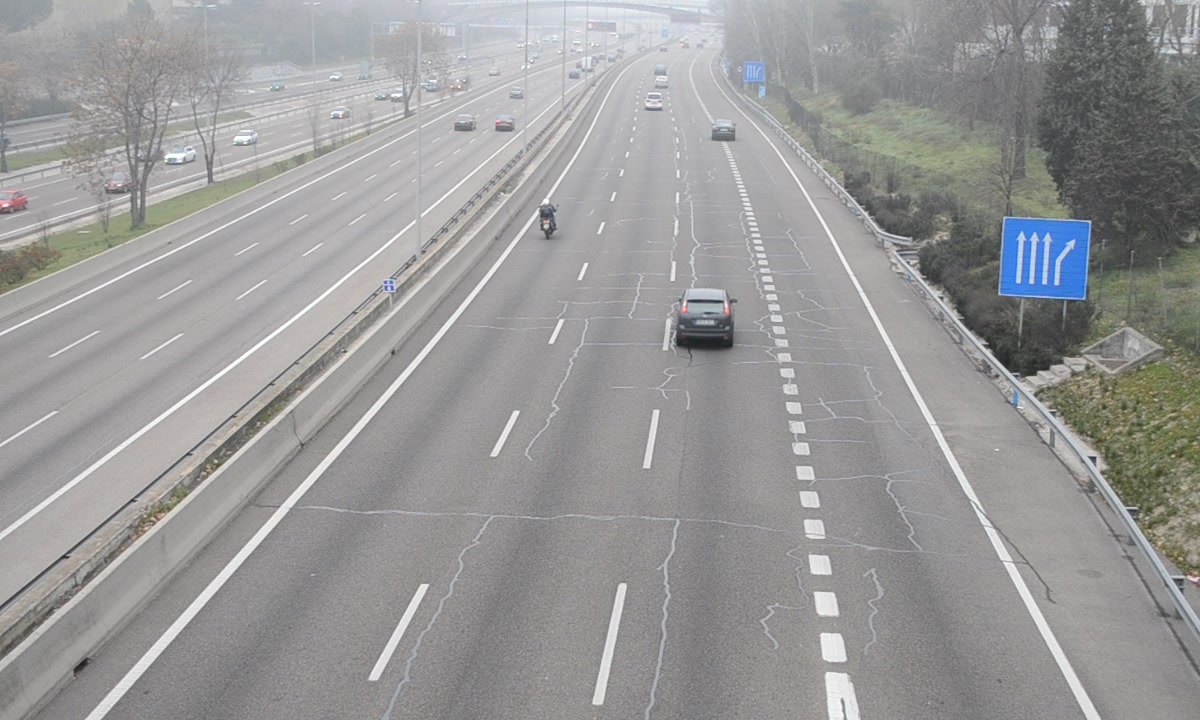car: (673, 290, 734, 348), (711, 121, 734, 142), (646, 93, 663, 112)
motorcycle: (536, 199, 558, 244)
